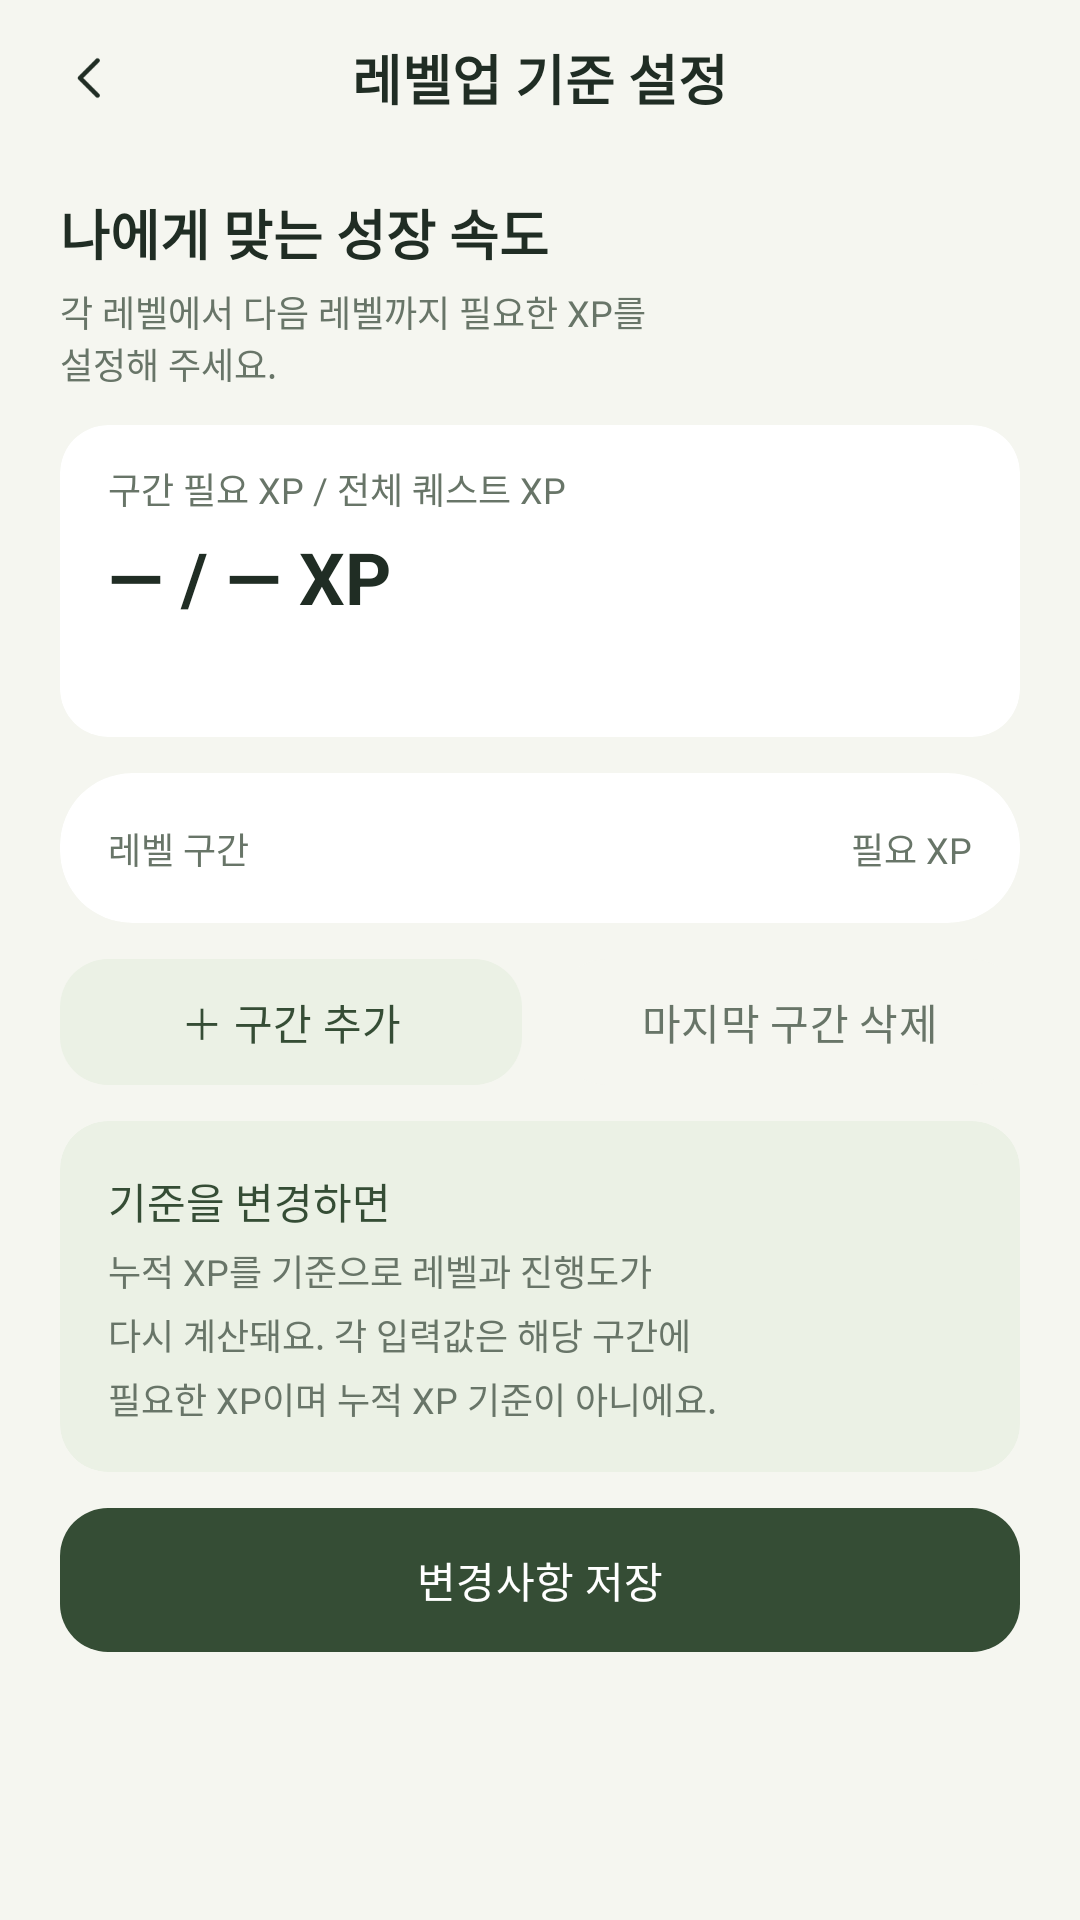

Named icons in this screenshot (1080px×1920px) and their bounding boxes, (x1, y1, x2, y2):
뒤로 가기: (77, 58, 100, 98)
